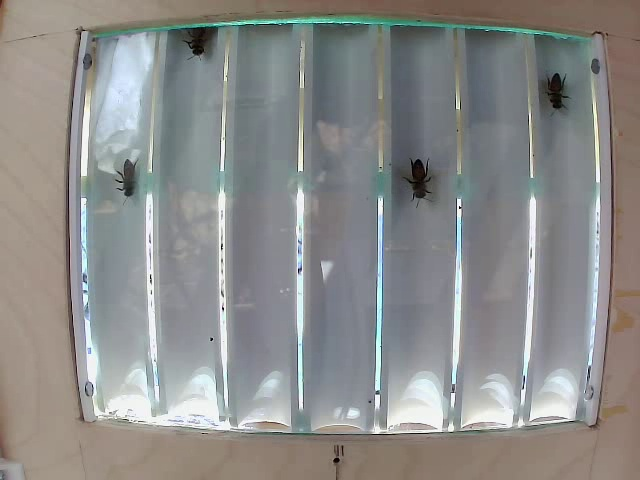bee: (403, 139, 440, 217), (535, 62, 573, 117), (116, 162, 154, 213), (184, 25, 219, 65)
